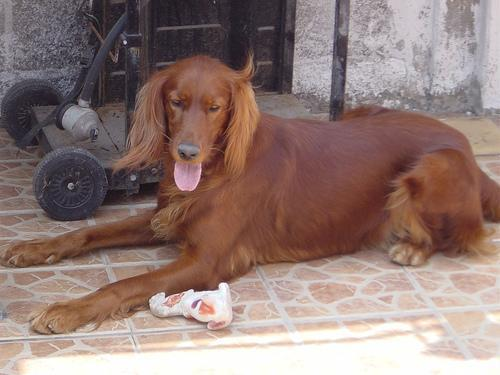Irish_setter: (2, 53, 499, 335)
